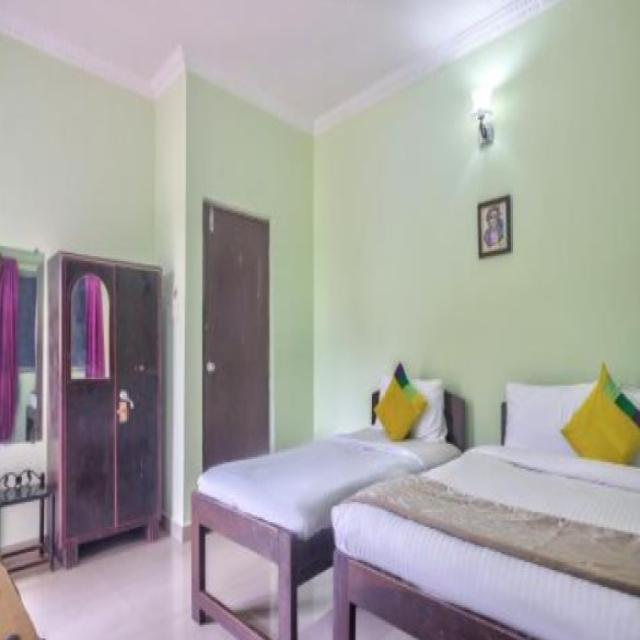Non_Damaged: (5, 18, 640, 635)
